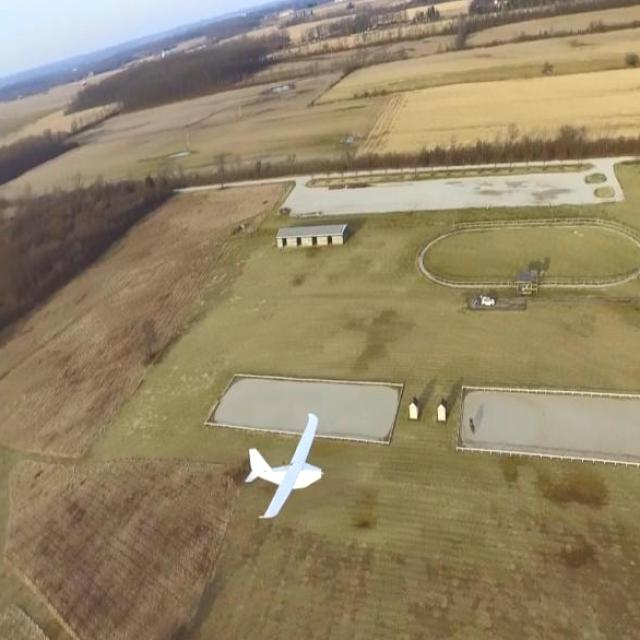plane: (244, 411, 326, 520)
